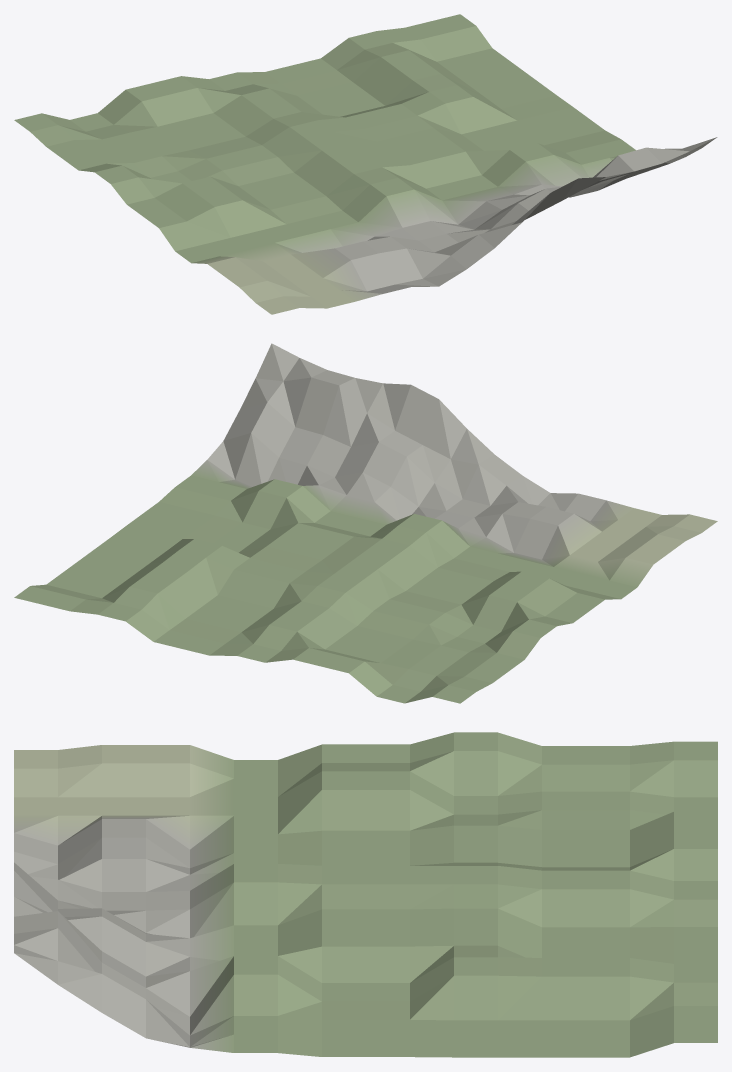
3 renders of one model, top to bottom at view 1: azimuth 30°, elevation 25°; view 2: azimuth 150°, elevation 25°; view 3: azimuth 270°, elevation 25°, orthographic. The views are drawn at different scales.
Bounding box in the file's own units: 32 × 6 × 32.
